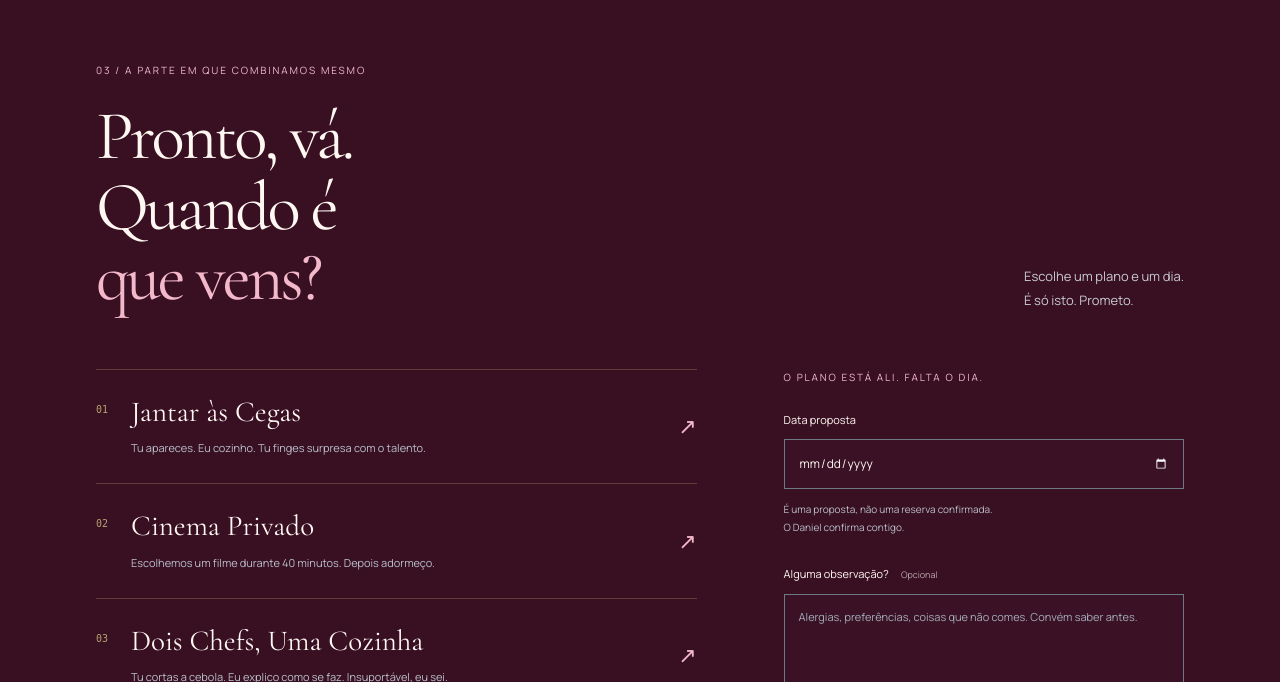
Test: reservas e secretaria › mostra o bilhete só depois da entrega, sempre pendente
Click the radio button labelled "Jantar às Cegas": (216, 411) [96, 368, 697, 483]
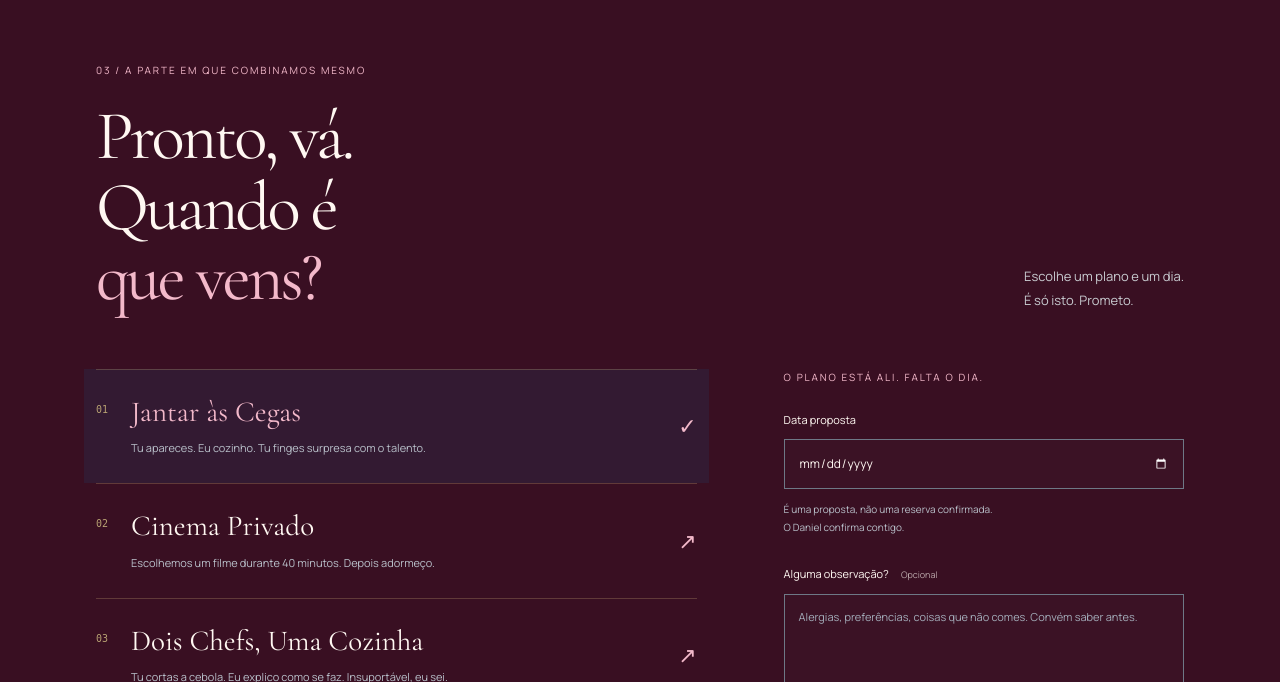
In the date field labelled "Data proposta": (984, 464) [784, 439, 1184, 489], type "2099-01-05"
(page scrolled)
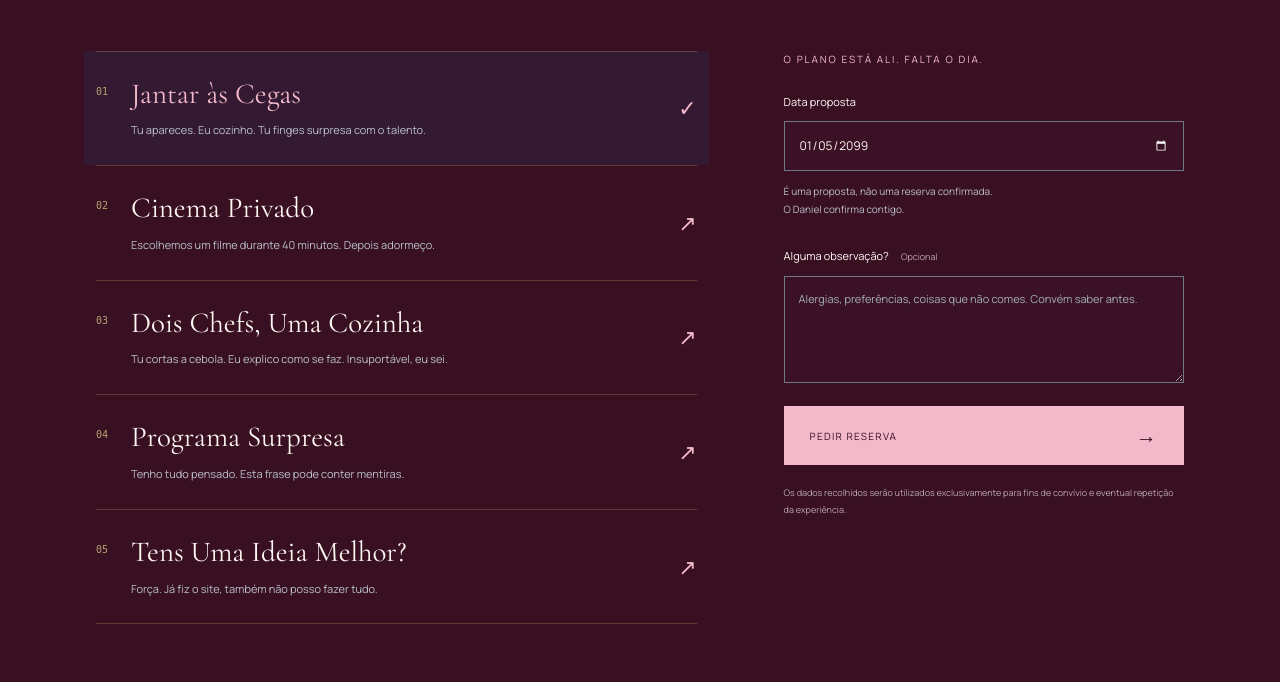
Submit the form named "Pedir reserva"
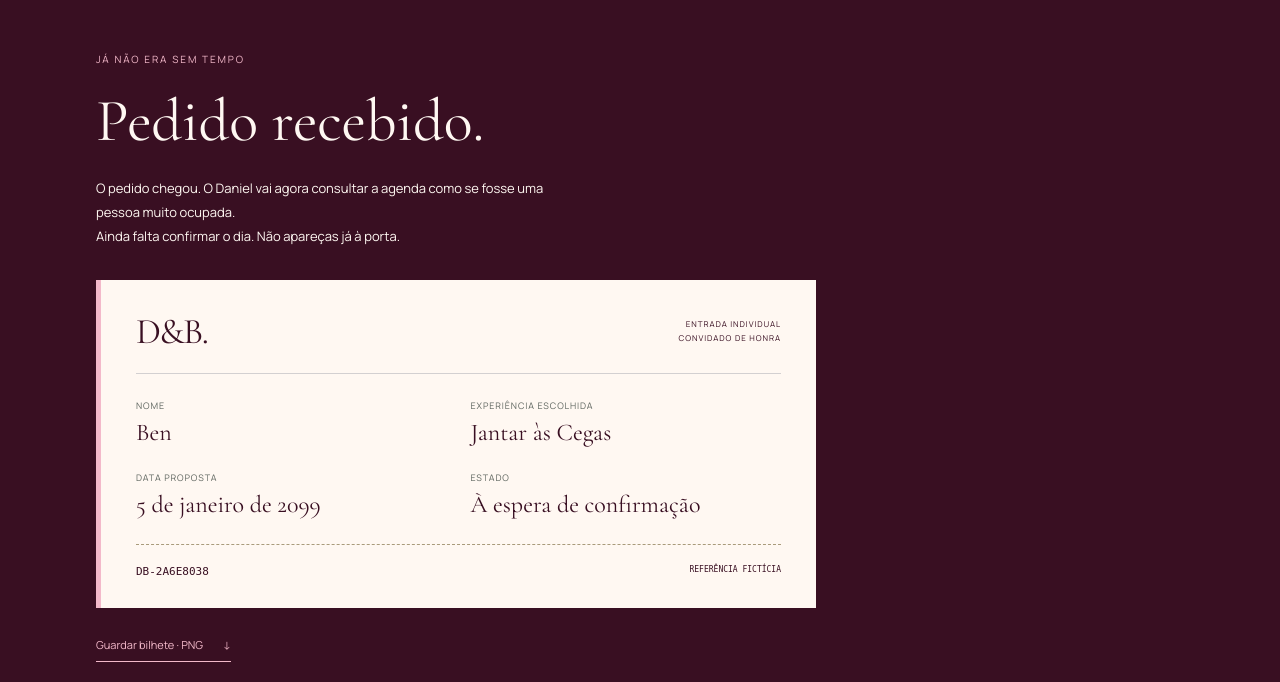
Expected: the heading "Pedido recebido." is shown, [96, 84, 484, 156]
Expected: the text "À espera de confirmação" is shown, [470, 490, 700, 519]
